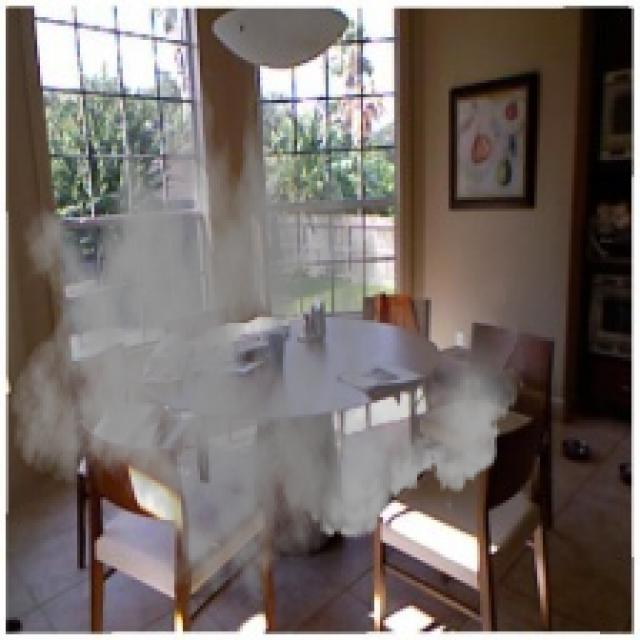smoke: (8, 57, 526, 609)
